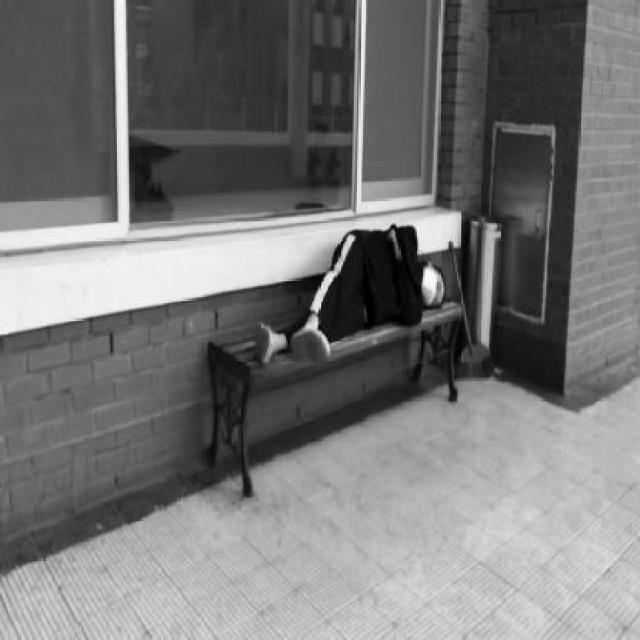person: (256, 220, 449, 362)
